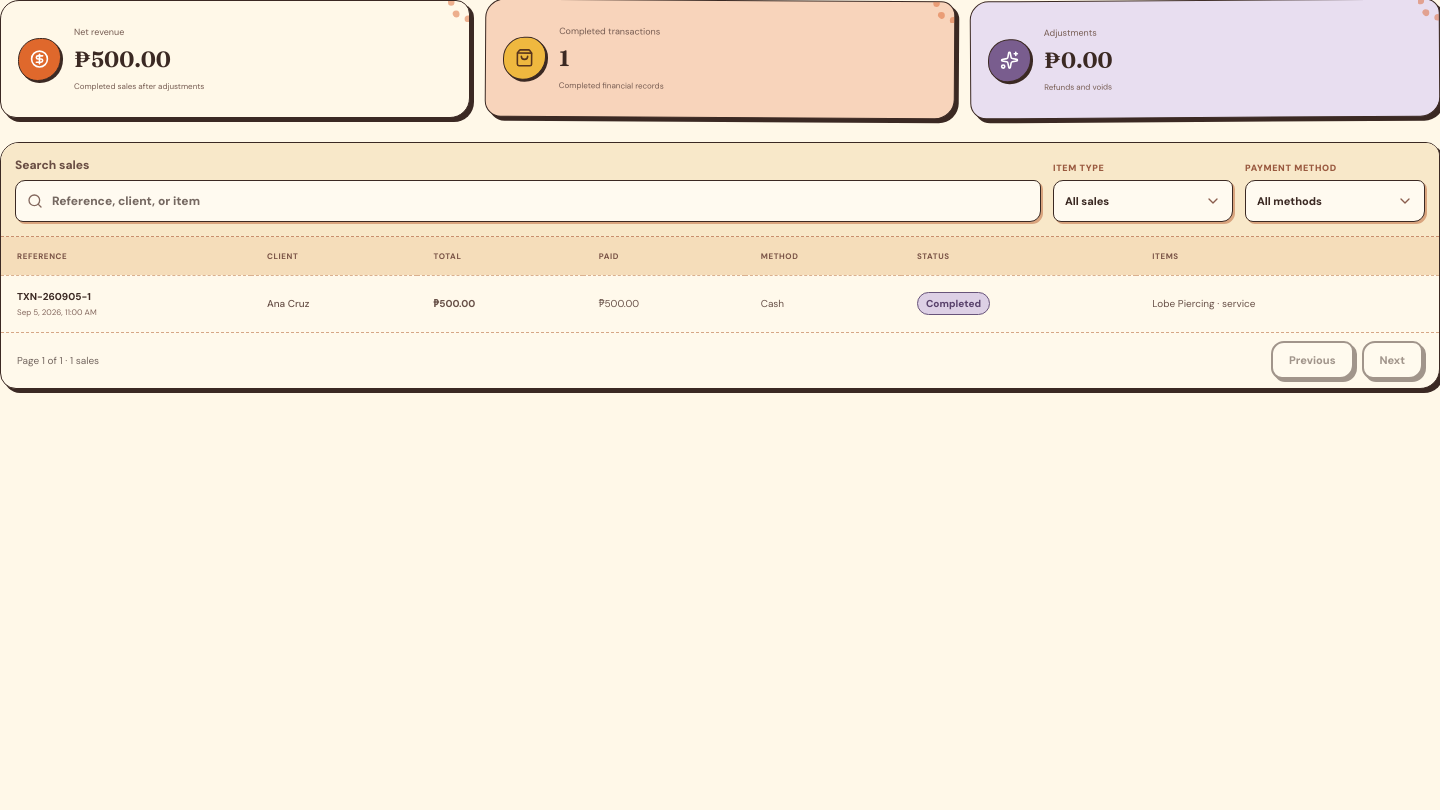
Test case: SalesPage › switches the cancellation action to void without an amount input
Click the button with aria-label "Open sale TXN-260905-1".
click(720, 303)  # box 1,275 -> 1439,332
(page scrolled)
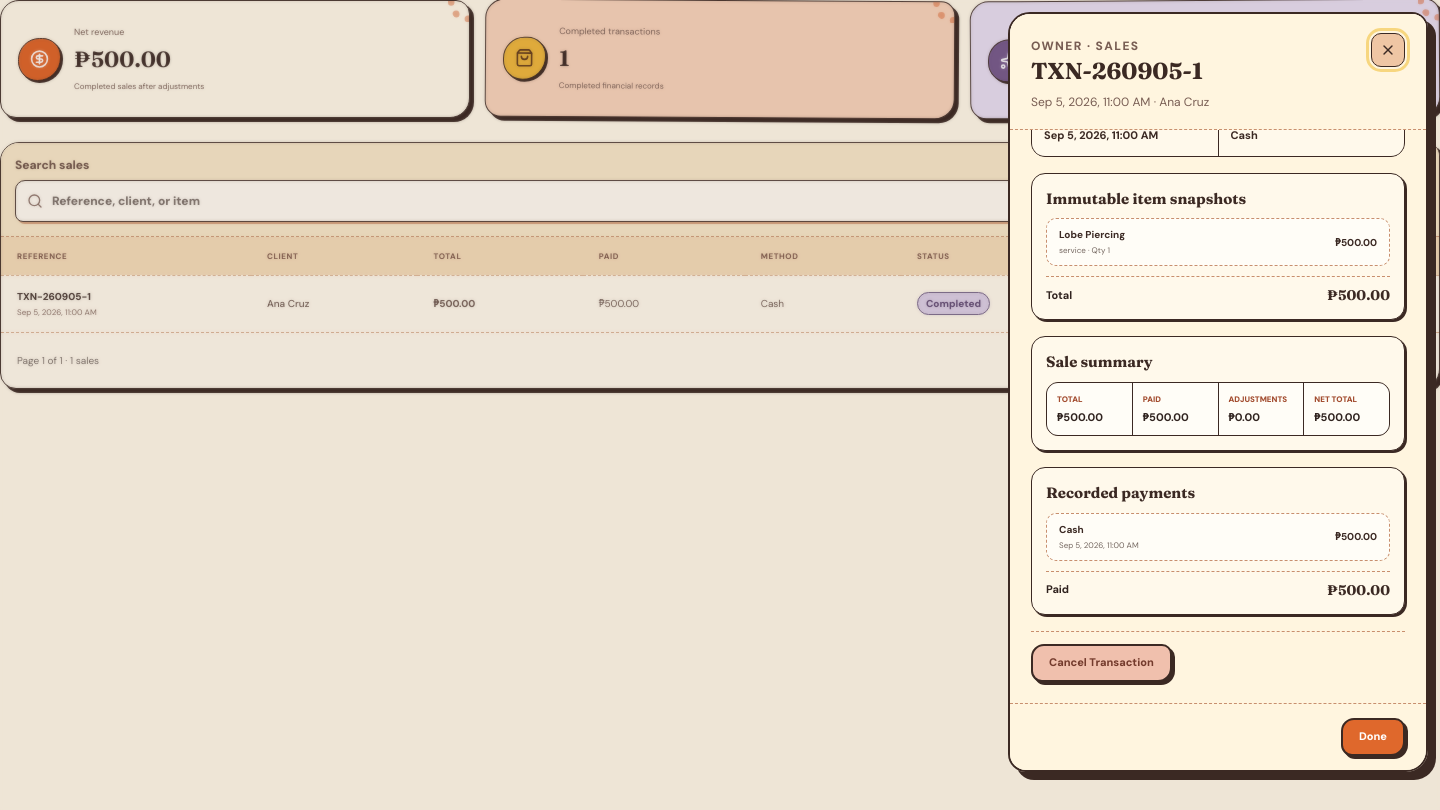
Click the button "Cancel Transaction".
click(1101, 662)  # box 1031,644 -> 1172,682
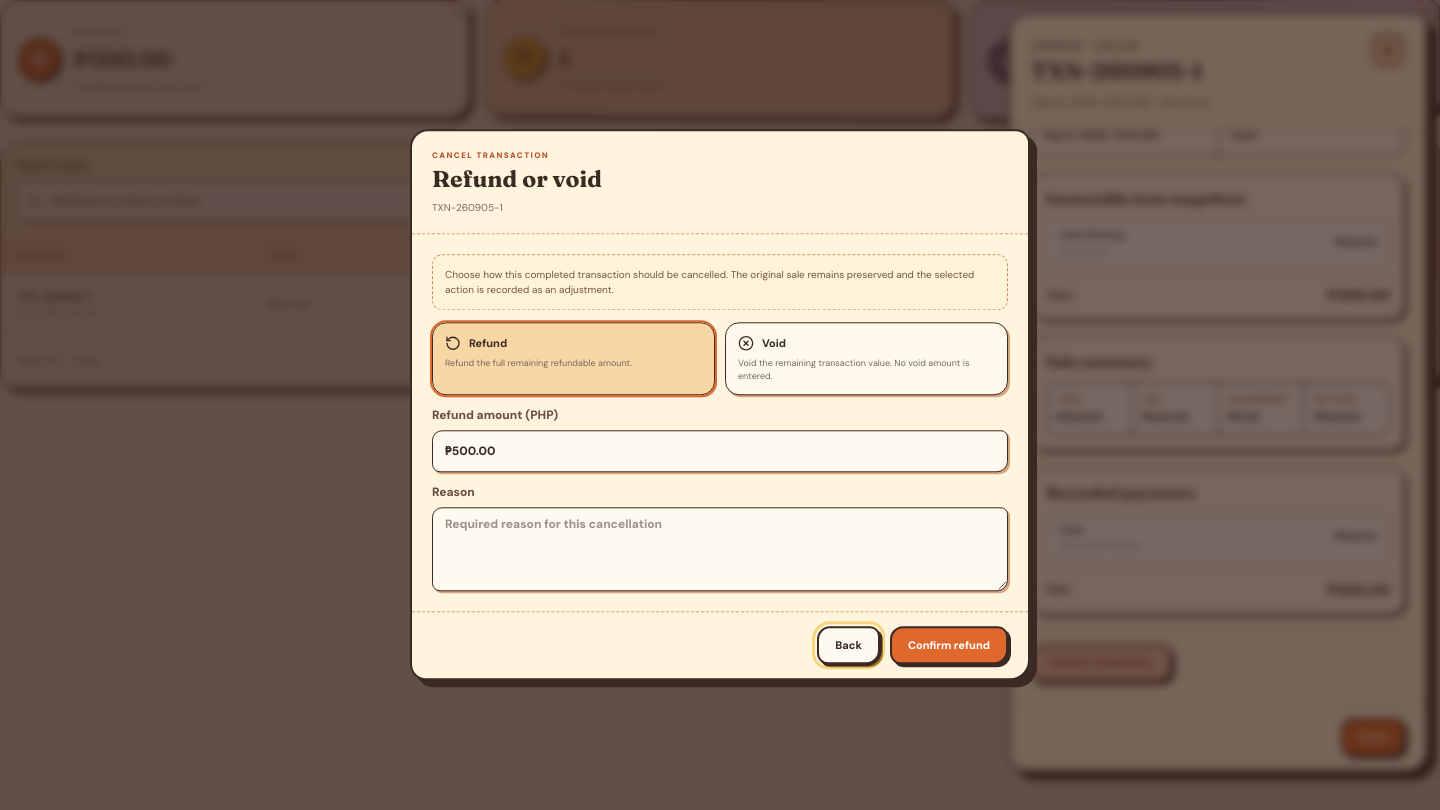
Click the radio button labelled "Void".
click(866, 359)  # box 725,322 -> 1008,396
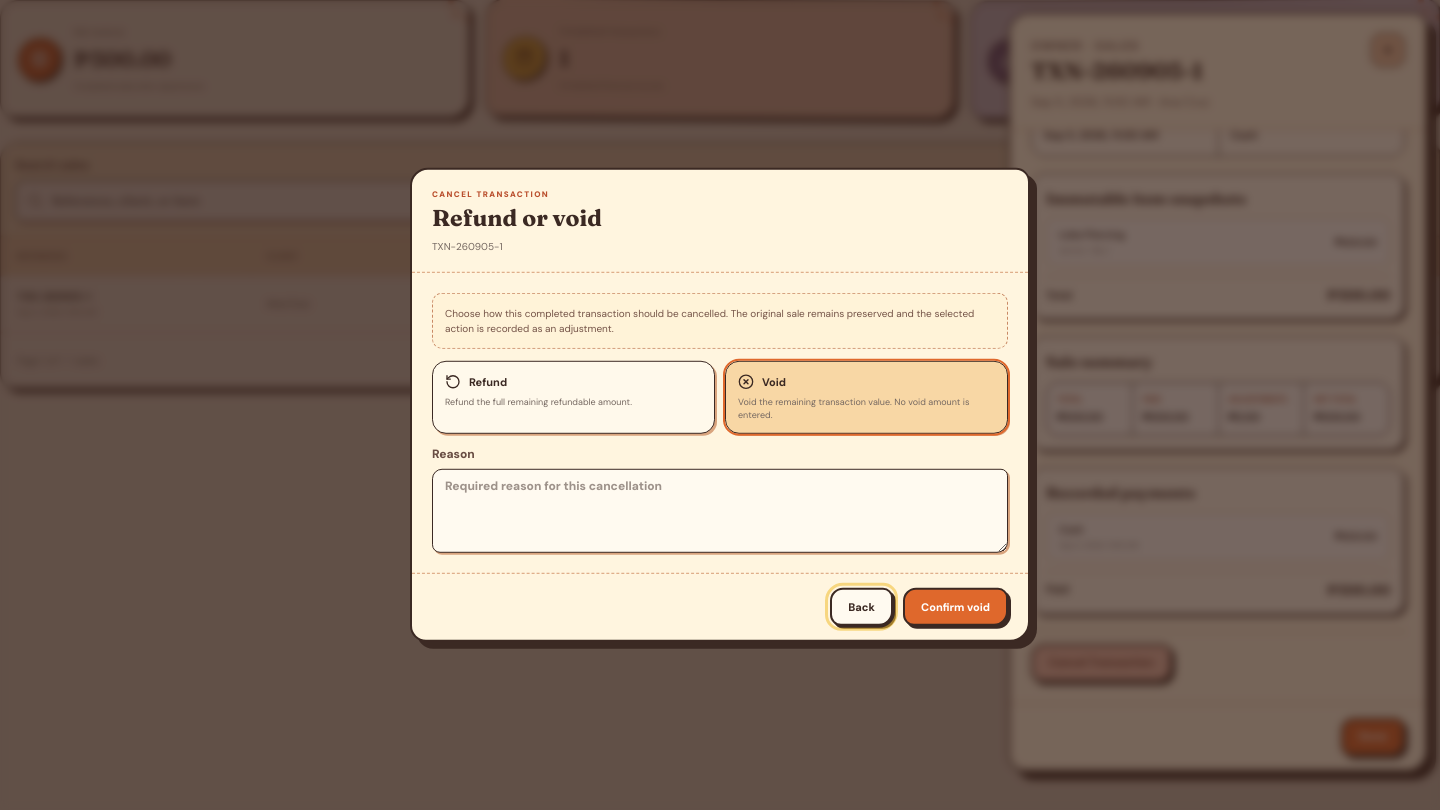
expect the text "Refund amount (PHP)" is gone: met
expect the button "Confirm void" is shown: met, box 903,588 -> 1008,626
